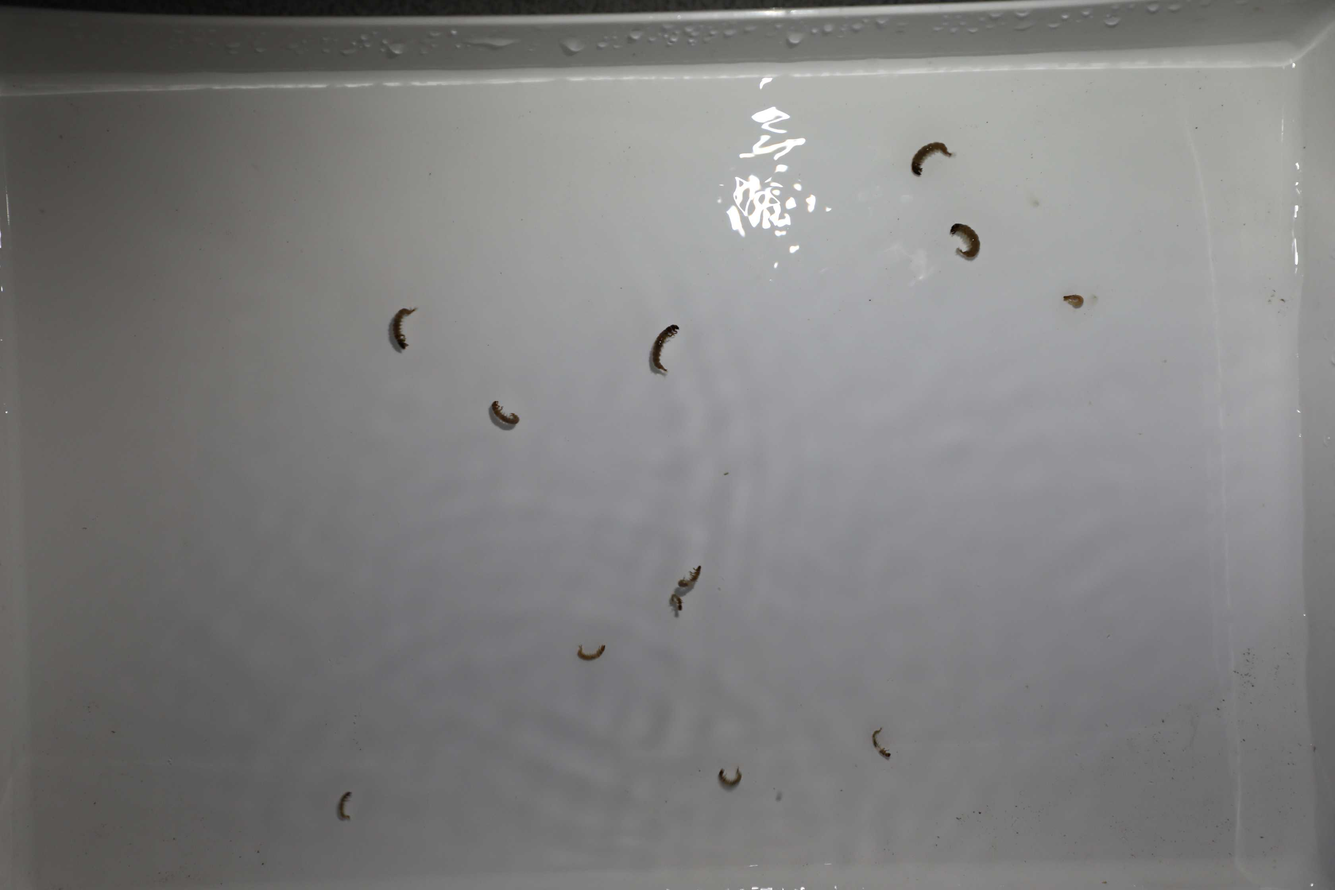Cadisfly: (900, 132, 956, 185), (375, 301, 416, 357), (646, 322, 684, 378), (943, 218, 987, 264), (859, 718, 898, 766), (482, 395, 527, 431), (672, 560, 713, 588), (712, 763, 746, 796), (568, 639, 611, 665), (332, 786, 357, 821), (1063, 289, 1090, 310), (665, 598, 687, 621)
